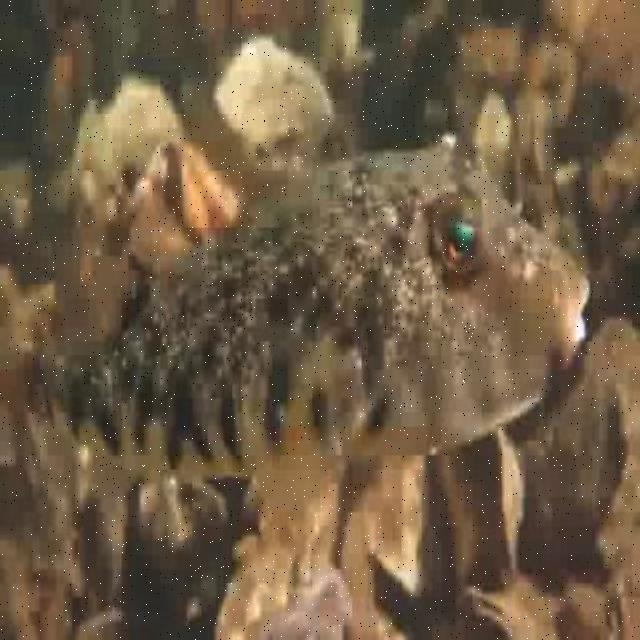Oyster-Closed: (216, 34, 335, 174), (584, 311, 640, 574), (544, 380, 627, 555), (90, 71, 181, 203), (371, 459, 456, 590), (221, 558, 350, 640), (463, 588, 562, 640), (481, 96, 516, 201), (70, 99, 96, 223), (610, 577, 640, 640)
Oyster-Open: (137, 147, 242, 260)
